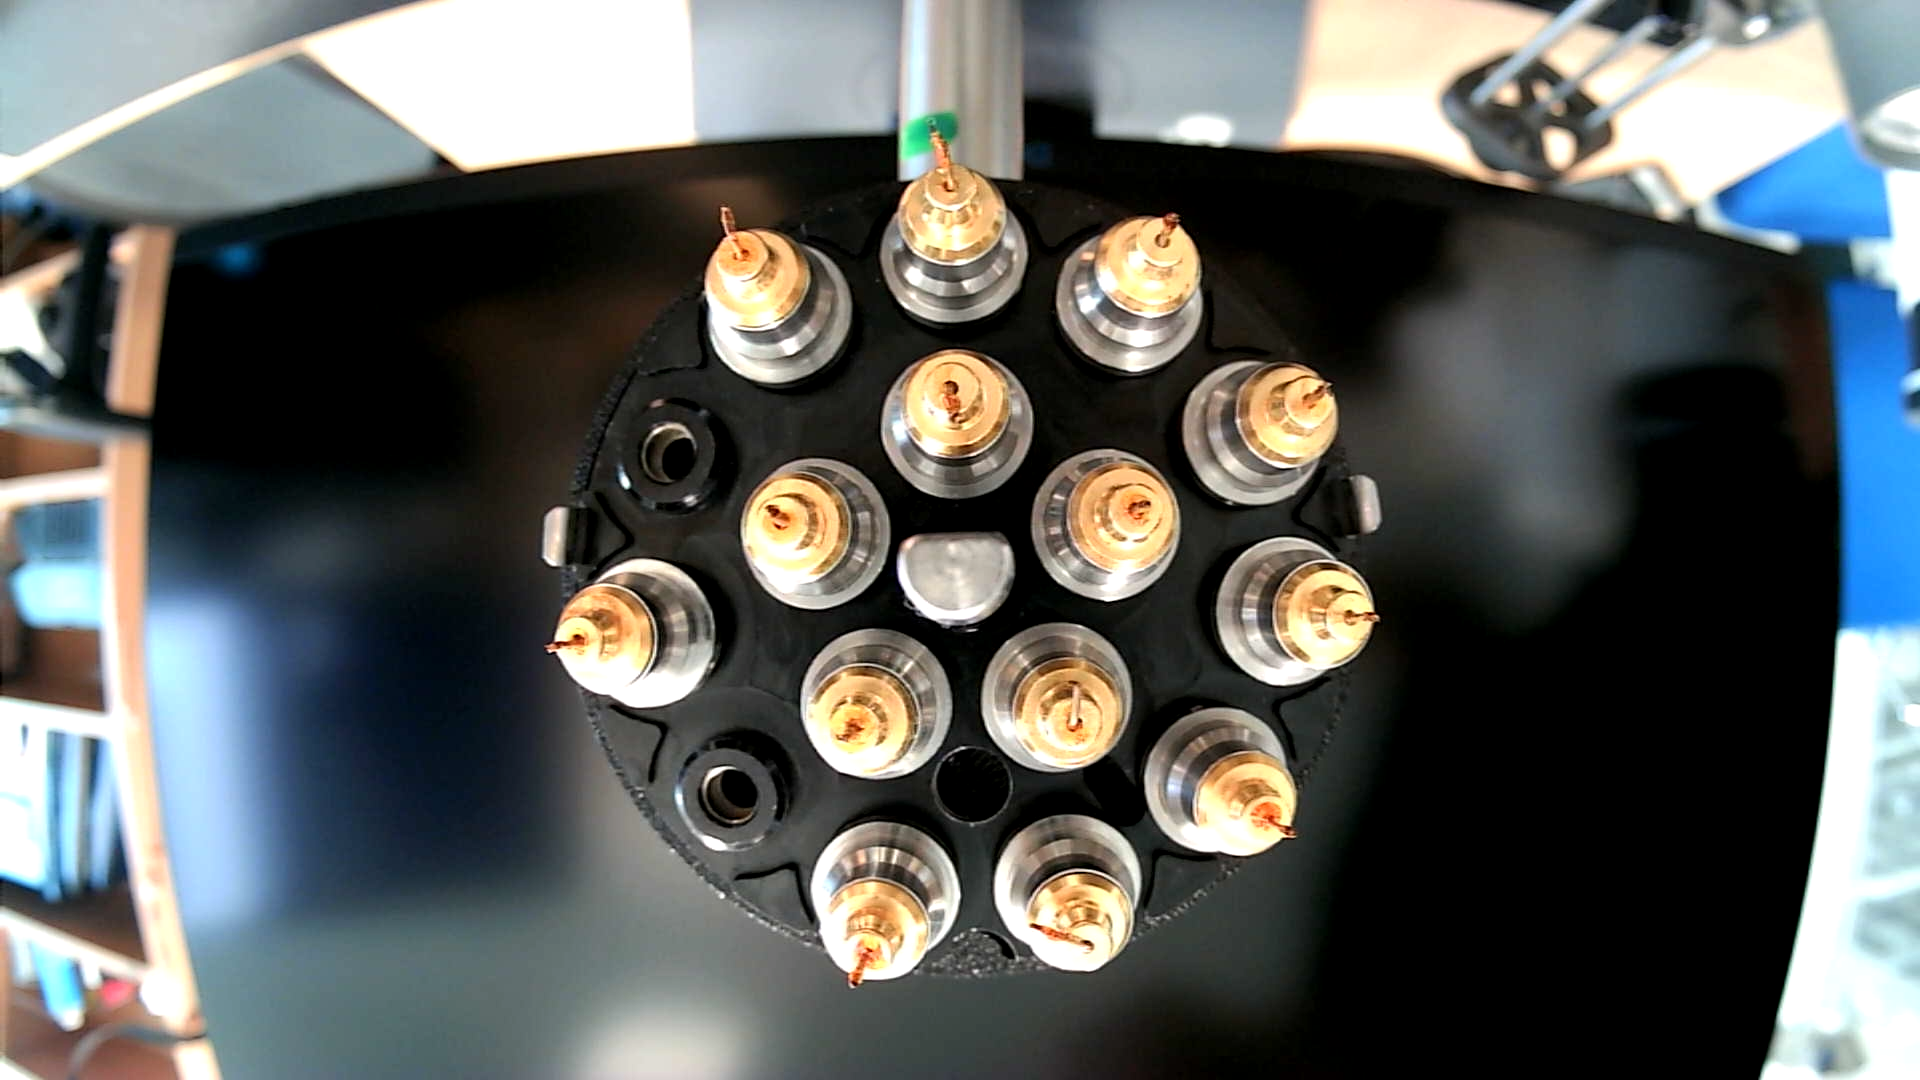bent: (880, 121, 1030, 328), (988, 811, 1147, 981), (978, 617, 1137, 781), (876, 345, 1036, 505)
empty: (667, 727, 803, 858), (611, 396, 740, 522)
hole: (931, 738, 1015, 831)
pin: (700, 199, 857, 392), (541, 554, 725, 712), (807, 814, 963, 992), (1205, 534, 1377, 691), (1055, 208, 1207, 380), (1141, 702, 1302, 862), (796, 625, 956, 782), (1029, 446, 1183, 605), (1178, 359, 1337, 513), (738, 455, 894, 611)
rod: (893, 526, 1021, 625)
